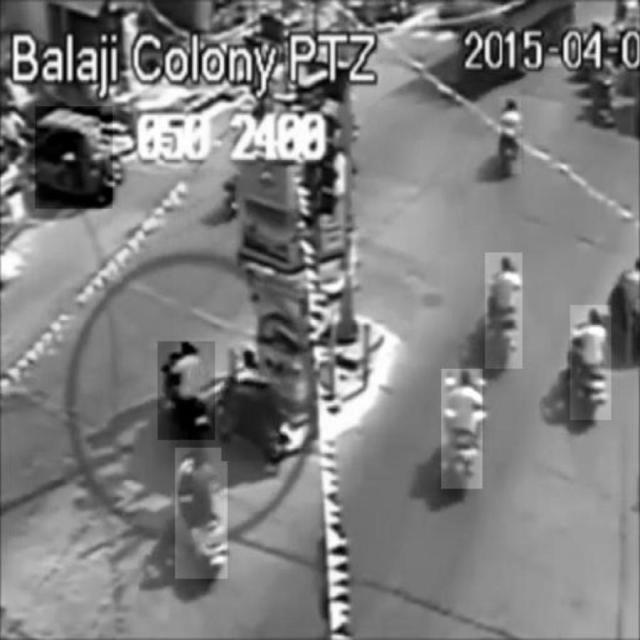vehicle: (35, 106, 113, 208), (222, 351, 288, 461), (175, 448, 227, 579), (158, 342, 215, 440), (442, 369, 483, 489), (571, 305, 612, 419), (485, 253, 522, 369), (500, 97, 522, 174)
